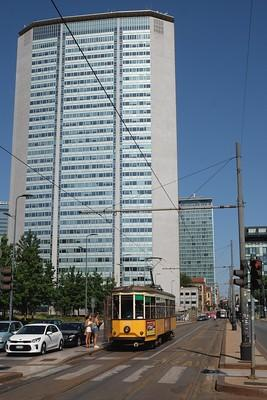building: (2, 4, 182, 322), (175, 195, 218, 314)
